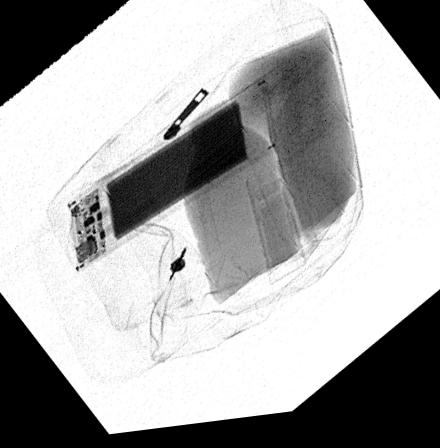Powerbank: (63, 83, 275, 273)
